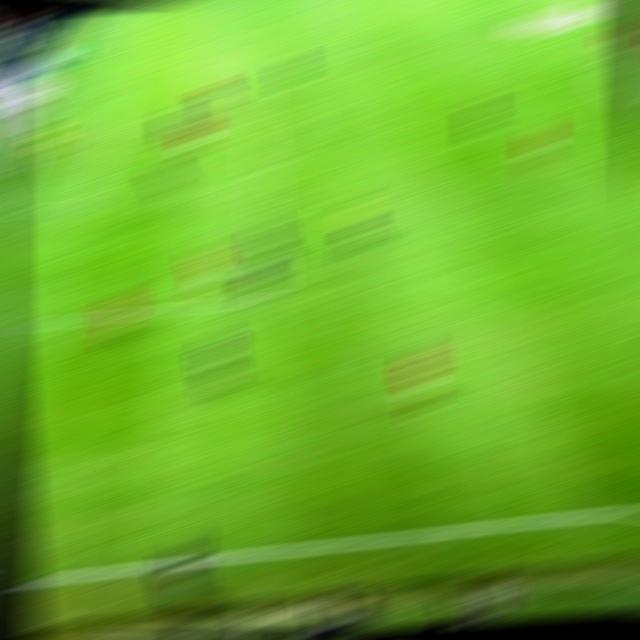bigarea_bottom_inner: (253, 287, 291, 305)
bigarea_top_inner: (237, 32, 262, 41)
bigarea_top_outter: (45, 94, 72, 100)
bottom_arc_area_intersection: (250, 167, 278, 179)
corner: (87, 11, 115, 12)
smallarea_bottom_inner: (72, 198, 103, 211)
smallarea_bottom_outter: (0, 206, 14, 216)
smallarea_top_inner: (107, 88, 135, 95)
top_arc_area_intersection: (241, 83, 271, 93)
